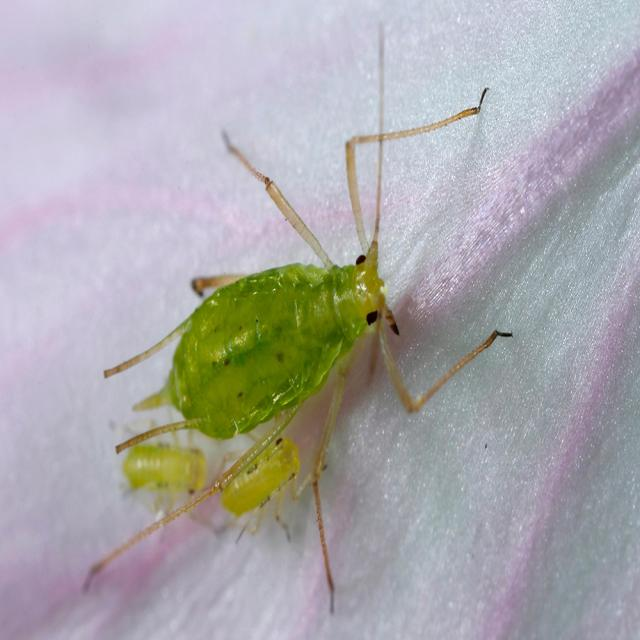Aphid-Grown-: (120, 78, 498, 534), (214, 422, 314, 550), (122, 421, 210, 521)
